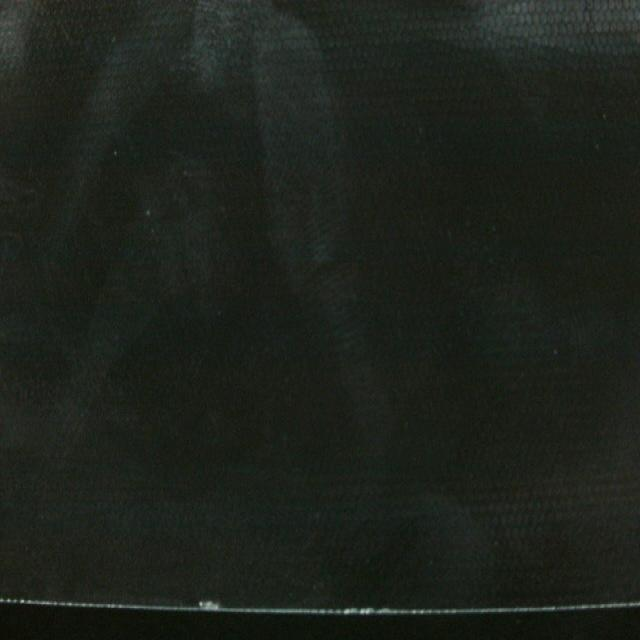edge_chip: (184, 587, 228, 623)
